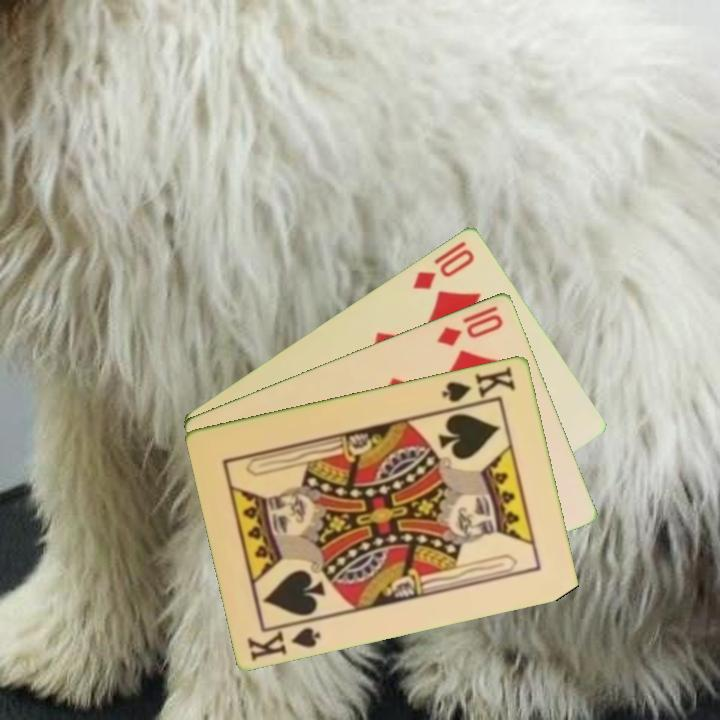10d: (409, 237, 478, 292), (433, 310, 507, 349)
Ks: (244, 615, 324, 664), (438, 362, 519, 405)
